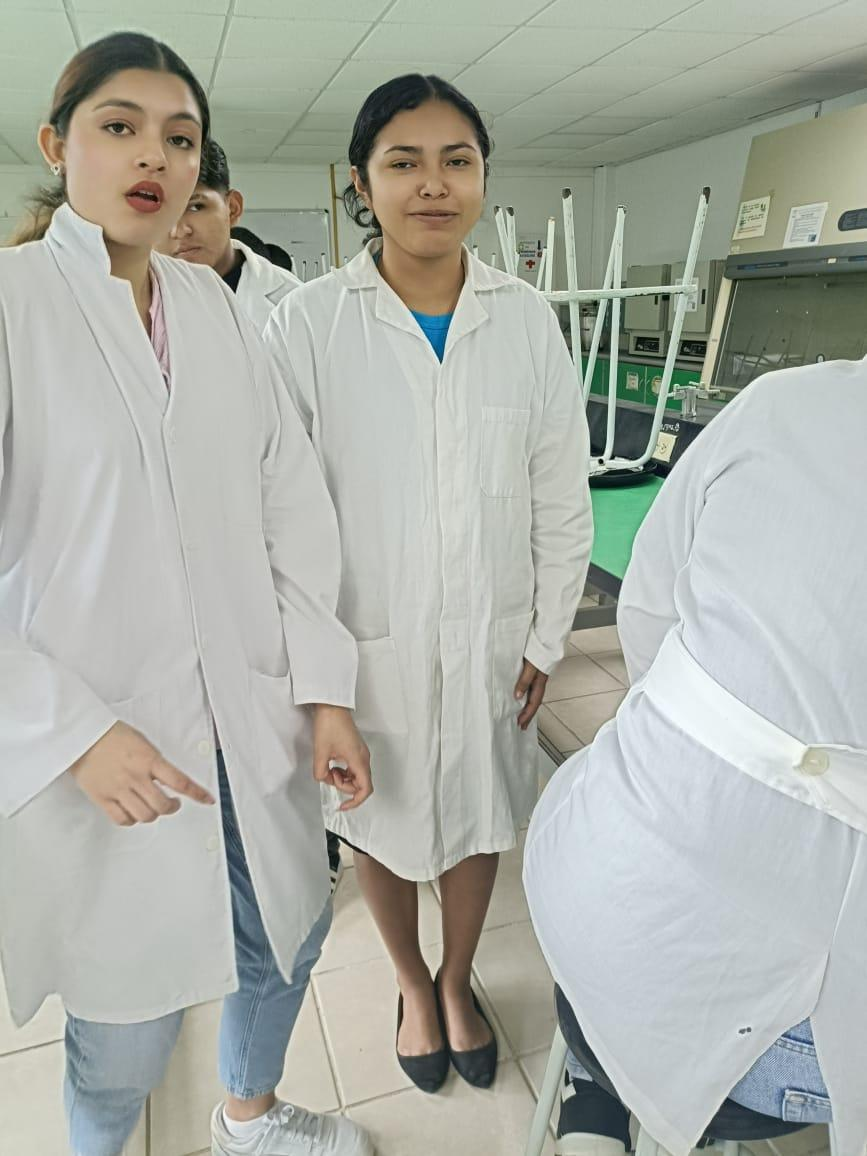Bata-Correcta: (0, 0, 600, 1156)
